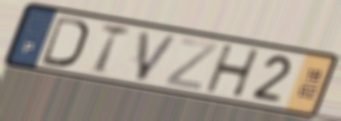2: (251, 54, 295, 104)
D: (39, 14, 91, 70)
H: (203, 43, 263, 99)
T: (92, 21, 134, 77)
V: (133, 28, 181, 83)
Z: (162, 36, 221, 92)
